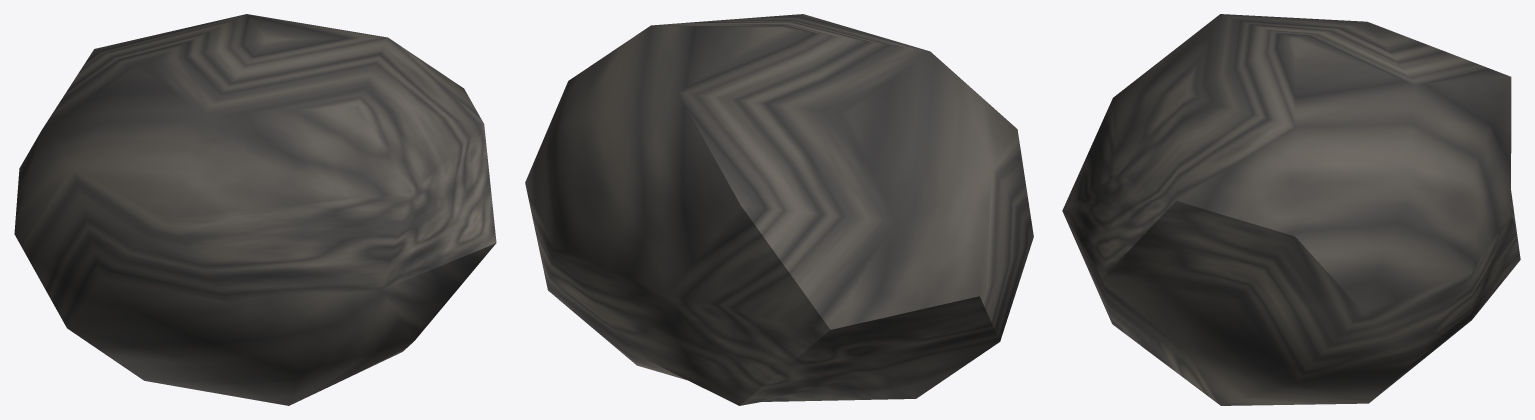
File: ITEM_Stone.fbx
The picture shows the model from 3 angles, left to right: view 1: azimuth 30°, elevation 25°; view 2: azimuth 150°, elevation 25°; view 3: azimuth 270°, elevation 25°; orthographic projection. The views are drawn at different scales.
Visible parts, largest first — view 1: ITEM_Stone; view 2: ITEM_Stone; view 3: ITEM_Stone.
Boxes of the visible parts, x1,y1,x2,y2 form: ITEM_Stone: [14, 14, 496, 405]; ITEM_Stone: [525, 14, 1033, 405]; ITEM_Stone: [1062, 14, 1520, 405].
Size of the model in its own units: 0.1439 by 0.1099 by 0.1326.
